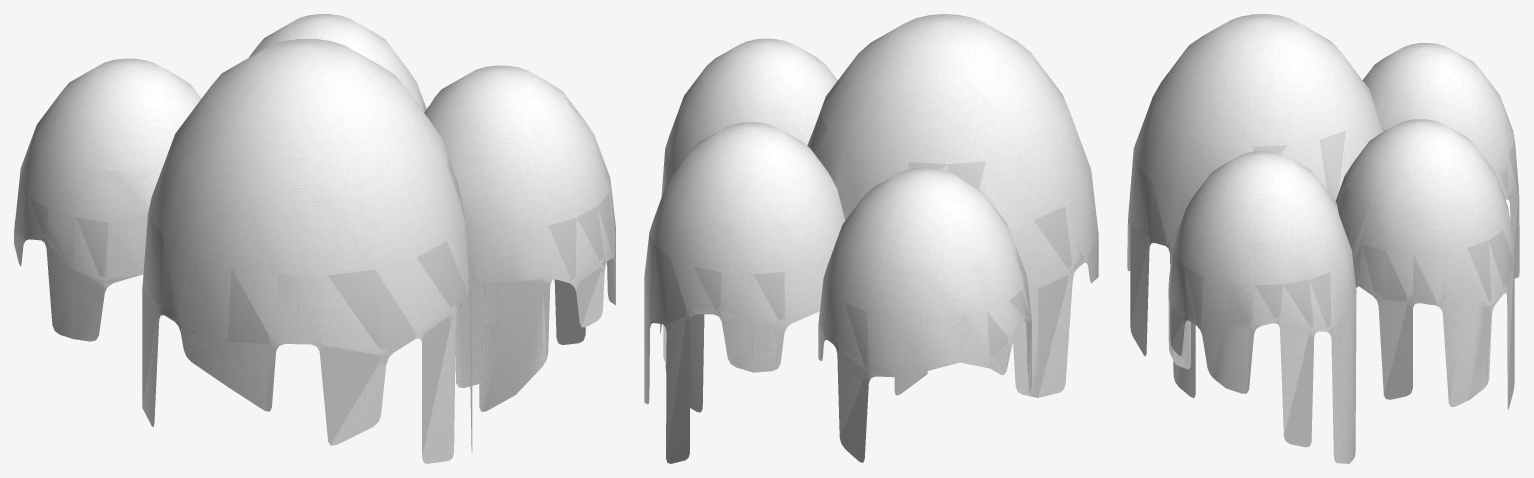
Rendered from VIPDomes01_Art.fbx.
3 views of the same model, side by side, from view 1: azimuth 30°, elevation 25°; view 2: azimuth 150°, elevation 25°; view 3: azimuth 270°, elevation 25° (orthographic). The views are drawn at different scales.
Visible parts, largest first — view 1: VIP_Domes_Outline; view 2: VIP_Domes_Outline; view 3: VIP_Domes_Outline.
Part boxes in pixels (x1=…): VIP_Domes_Outline: x1=14, y1=14, x2=615, y2=463; VIP_Domes_Outline: x1=644, y1=14, x2=1098, y2=463; VIP_Domes_Outline: x1=1127, y1=14, x2=1519, y2=463.
Bounding box in the file's own units: 66.52 × 58.23 × 58.85.
